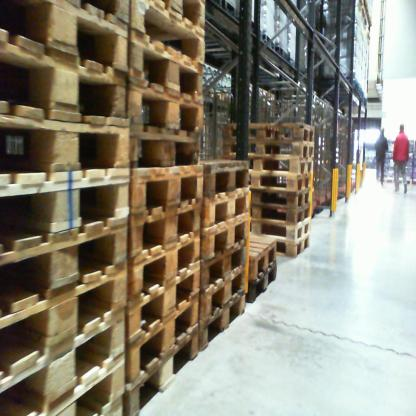pallet: (0, 260, 134, 387), (4, 211, 133, 318), (3, 168, 137, 267), (1, 310, 130, 412), (5, 27, 136, 126), (4, 99, 137, 186), (3, 4, 138, 80), (127, 293, 199, 387), (127, 229, 208, 312), (129, 325, 202, 415), (127, 263, 202, 348), (126, 32, 206, 101), (127, 194, 209, 259), (134, 3, 208, 73), (63, 352, 134, 415), (130, 84, 212, 137), (126, 164, 205, 217), (128, 127, 205, 171), (200, 212, 258, 268), (197, 292, 251, 349), (197, 268, 252, 321), (198, 243, 247, 293), (207, 153, 256, 202), (222, 122, 317, 146), (206, 186, 257, 229), (226, 155, 317, 179), (139, 1, 201, 35), (220, 139, 317, 159), (248, 216, 314, 245), (247, 229, 279, 284), (249, 263, 288, 307), (221, 41, 291, 65), (252, 187, 314, 213), (250, 202, 315, 226), (248, 172, 314, 194), (80, 5, 139, 27), (272, 234, 309, 262), (209, 2, 246, 27), (256, 27, 280, 51), (394, 173, 412, 190), (379, 173, 395, 190)
